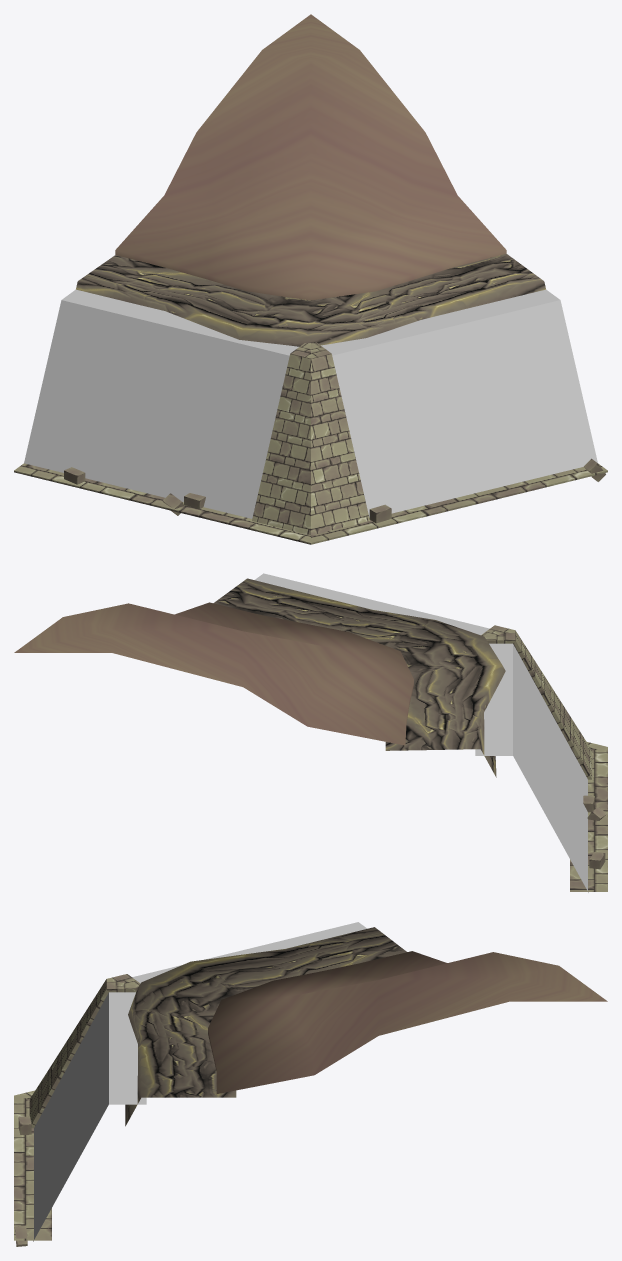
File: Wall_LevelEdge_Outer_01.FBX
3 views of the same model, one above another, from view 1: azimuth 30°, elevation 25°; view 2: azimuth 150°, elevation 25°; view 3: azimuth 270°, elevation 25° (orthographic).
Parts seen in each view (by area): view 1: Wall_LevelEdge_Outer_01; view 2: Wall_LevelEdge_Outer_01; view 3: Wall_LevelEdge_Outer_01.
Part boxes in pixels (<box>): Wall_LevelEdge_Outer_01: <box>14,14,607,544</box>; Wall_LevelEdge_Outer_01: <box>14,573,607,892</box>; Wall_LevelEdge_Outer_01: <box>14,922,607,1246</box>.
Bounding box in the file's own units: 13.56 × 7.26 × 15.66.
